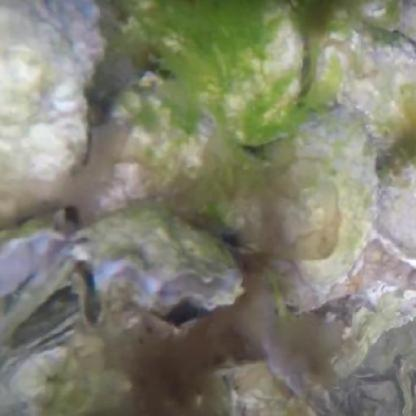3: (70, 210, 240, 316), (0, 263, 87, 357)
Oyster-Closed: (267, 105, 383, 295), (223, 0, 302, 140)
Oyster-Open: (240, 362, 316, 416)
